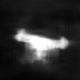plane: (12, 27, 71, 66)
